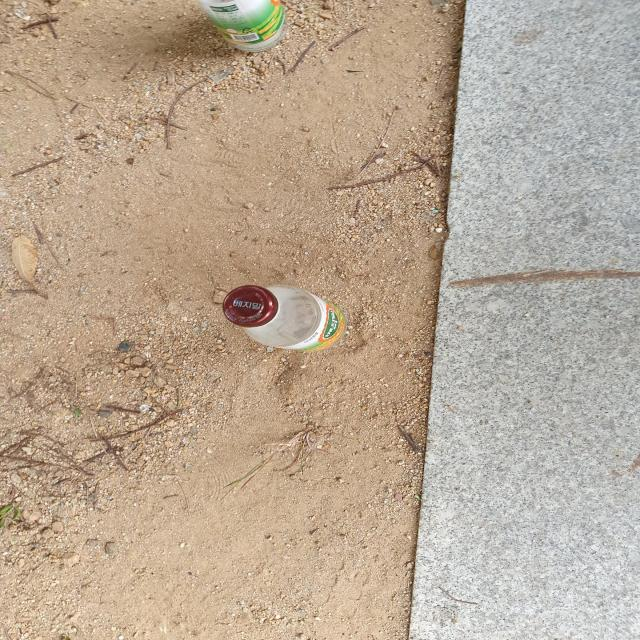glass: (223, 285, 346, 352), (198, 0, 285, 51)
